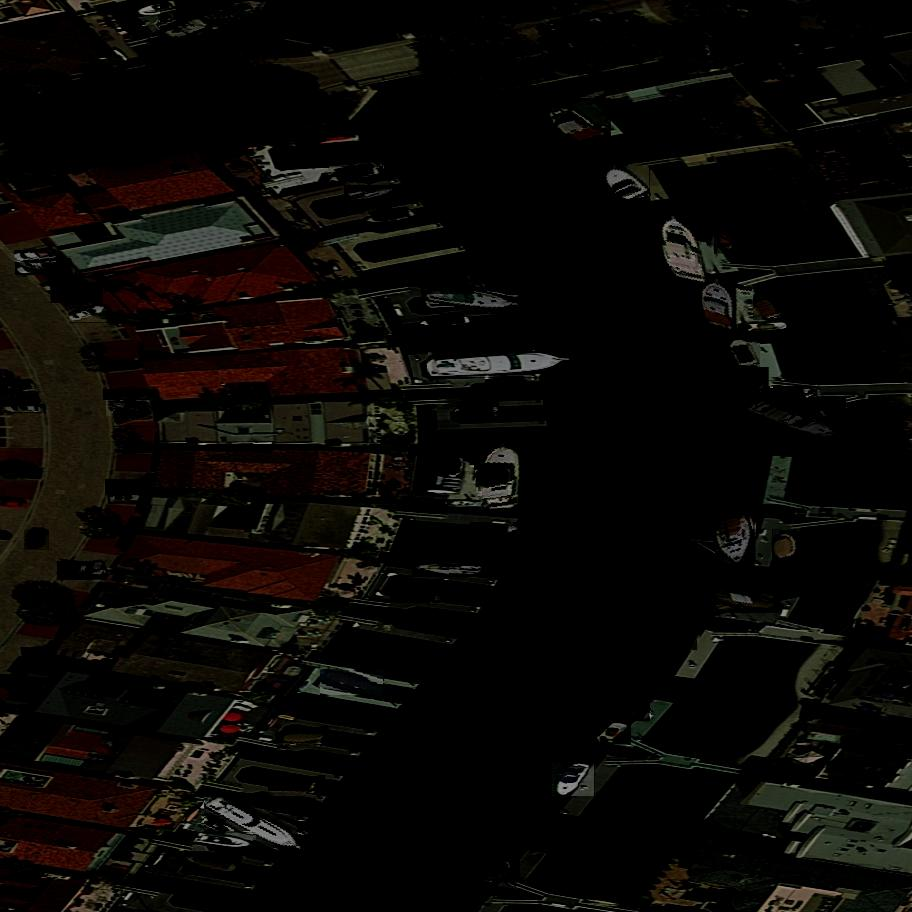ship: (204, 793, 316, 863), (160, 0, 284, 47), (743, 392, 847, 447), (529, 87, 613, 155), (654, 204, 708, 292), (429, 352, 573, 379), (482, 440, 523, 512), (421, 287, 526, 314), (715, 514, 757, 570), (599, 160, 650, 206), (553, 756, 597, 806), (320, 666, 383, 700), (701, 272, 736, 333), (711, 592, 783, 615), (725, 333, 761, 374), (183, 852, 242, 877), (479, 853, 520, 888), (615, 690, 650, 730), (596, 715, 632, 753), (305, 152, 383, 169), (413, 560, 486, 578), (422, 271, 476, 295), (734, 362, 769, 399), (193, 832, 256, 852), (754, 289, 787, 325), (770, 529, 805, 562), (344, 184, 399, 204), (390, 586, 446, 605), (364, 208, 416, 227), (248, 800, 297, 820), (329, 168, 383, 185), (456, 401, 500, 420), (774, 386, 814, 406), (420, 317, 473, 330), (471, 526, 524, 538), (276, 732, 329, 744), (715, 229, 737, 257), (745, 322, 790, 334), (674, 627, 697, 650), (268, 782, 324, 791), (446, 456, 466, 478)
small-vehicle: (51, 281, 104, 306), (15, 259, 72, 277), (56, 562, 106, 581), (104, 397, 153, 416), (113, 408, 155, 428), (69, 304, 108, 325), (22, 529, 51, 550), (15, 250, 57, 264), (106, 481, 145, 496), (104, 391, 150, 400), (5, 404, 41, 414), (65, 297, 102, 306), (109, 496, 143, 503)
